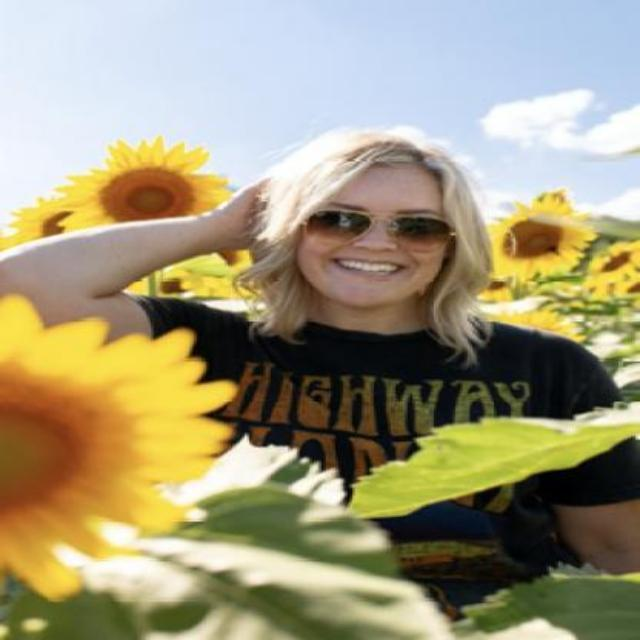glasses: (305, 210, 455, 252)
